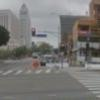crosswalks: (67, 70, 100, 100)
